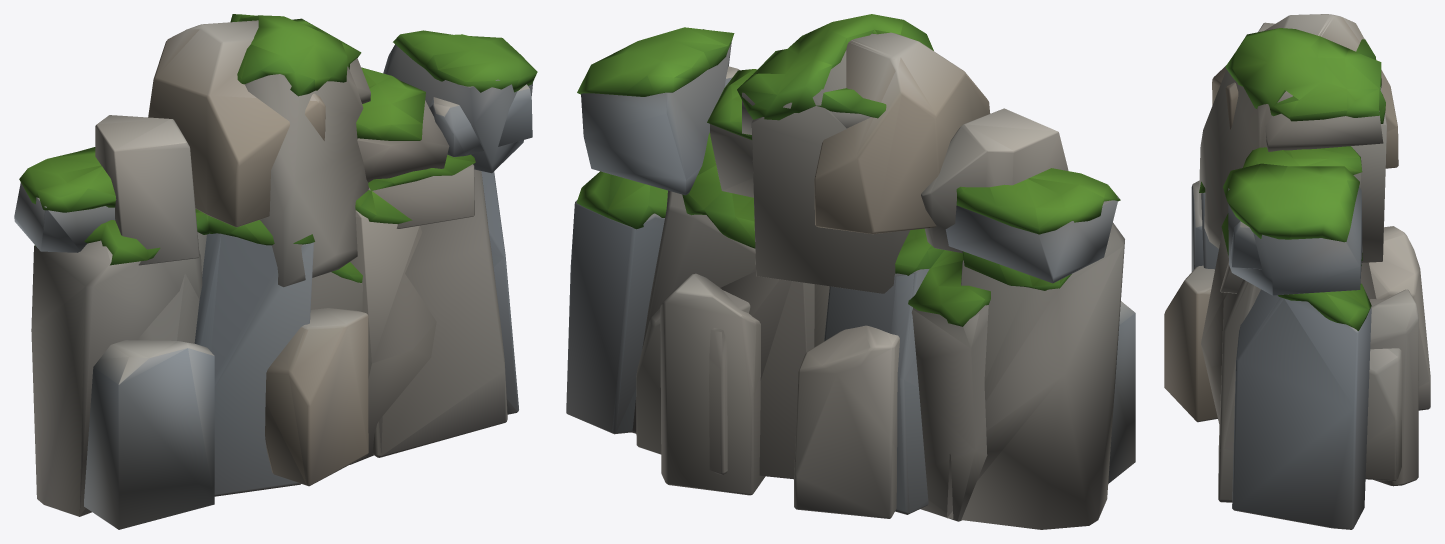
The model's file is glade_bluff_ridge_lod2.glb.
The picture shows the model from 3 angles, left to right: view 1: azimuth 30°, elevation 25°; view 2: azimuth 150°, elevation 25°; view 3: azimuth 270°, elevation 25°; orthographic projection. The views are drawn at different scales.
Parts seen in each view (by area): view 1: glade_bluff_ridge.001, moss.001; view 2: glade_bluff_ridge.001, moss.001; view 3: glade_bluff_ridge.001, moss.001.
Part boxes in pixels (bbox=[...]): glade_bluff_ridge.001: bbox=[14, 20, 532, 529]; moss.001: bbox=[19, 14, 537, 282]; glade_bluff_ridge.001: bbox=[566, 29, 1135, 529]; moss.001: bbox=[576, 14, 1120, 326]; glade_bluff_ridge.001: bbox=[1164, 14, 1430, 529]; moss.001: bbox=[1199, 28, 1385, 330].
Bounding box in the file's own units: 31.76 × 26.34 × 16.12.
